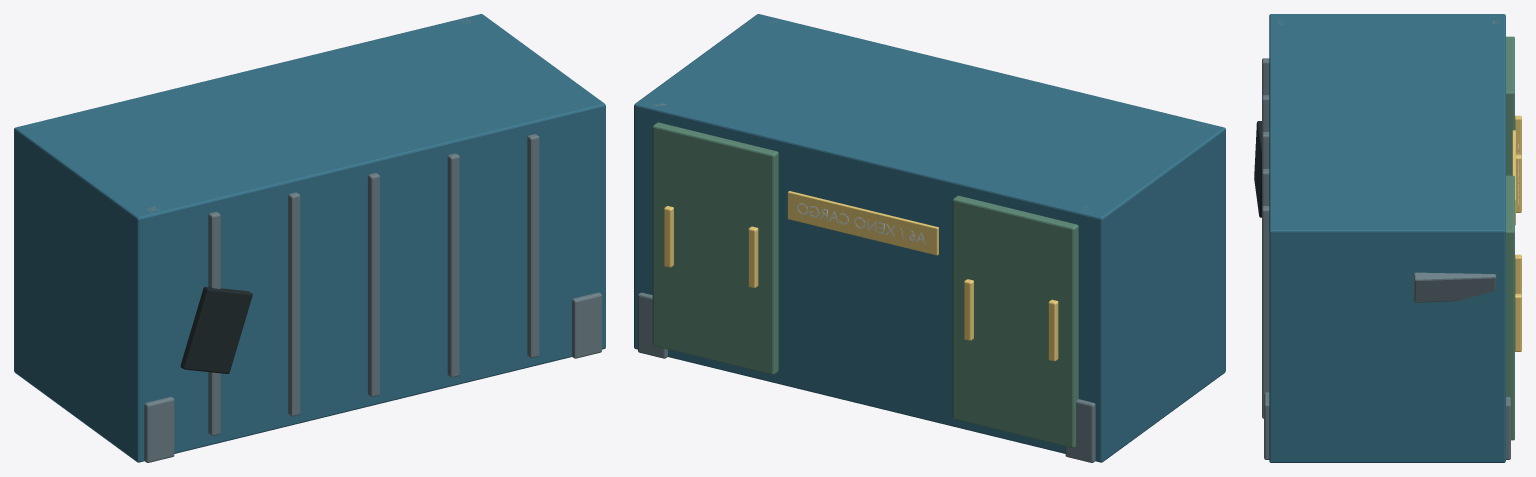
The model's file is armored_container_d1.glb.
3 renders of one model, left to right at view 1: azimuth 30°, elevation 25°; view 2: azimuth 150°, elevation 25°; view 3: azimuth 270°, elevation 25°, orthographic. The views are drawn at different scales.
Parts seen in each view (by area): view 1: Container body.004, Impact dent.001, Corrugated side rib.021, Corrugated side rib.023, Corrugated side rib.024, Corrugated side rib.022, ISO corner casting.016, ISO corner casting.018, Corrugated side rib.020; view 2: Container body.004, Container door.009, Container door.008, Container ID.004, ISO corner casting.017, ISO corner casting.019, Door latch.016, Door latch.018, Container stencil.004, Door latch.017, Door latch.019; view 3: Container body.004, Bent corner.001, Container door.009, Corrugated side rib.024, Container door.008, Impact dent.001, Door latch.019, ISO corner casting.018, Door latch.017, ISO corner casting.019, Corrugated side rib.020, Corrugated side rib.021 (+2 smaller).
Part boxes in pixels (x1,y1,x2,y2): Container body.004: [14, 14, 605, 462]; Impact dent.001: [180, 287, 252, 373]; Corrugated side rib.021: [288, 192, 300, 416]; Corrugated side rib.023: [447, 153, 459, 377]; Corrugated side rib.024: [527, 134, 539, 358]; Corrugated side rib.022: [367, 173, 379, 397]; ISO corner casting.016: [144, 397, 174, 462]; ISO corner casting.018: [572, 292, 601, 358]; Corrugated side rib.020: [208, 212, 220, 435]; Container body.004: [634, 14, 1225, 462]; Container door.009: [652, 122, 778, 374]; Container door.008: [952, 195, 1078, 448]; Container ID.004: [787, 191, 938, 255]; ISO corner casting.017: [1065, 399, 1095, 462]; ISO corner casting.019: [638, 292, 667, 358]; Door latch.016: [1048, 299, 1058, 361]; Door latch.018: [748, 226, 758, 288]; Container stencil.004: [797, 203, 925, 244]; Door latch.017: [964, 279, 973, 340]; Door latch.019: [664, 206, 673, 267]; Container body.004: [1269, 14, 1505, 462]; Bent corner.001: [1413, 272, 1496, 302]; Container door.009: [1506, 175, 1514, 440]; Corrugated side rib.024: [1262, 206, 1269, 418]; Container door.008: [1506, 36, 1514, 175]; Impact dent.001: [1254, 121, 1261, 217]; Door latch.019: [1515, 293, 1521, 351]; ISO corner casting.018: [1264, 392, 1269, 459]; Door latch.017: [1516, 154, 1521, 212]; ISO corner casting.019: [1506, 397, 1510, 459]; Corrugated side rib.020: [1262, 58, 1269, 96]; Corrugated side rib.021: [1262, 95, 1269, 132].
Bounding box in the file's own units: 5.1 × 2.5 × 2.6.
